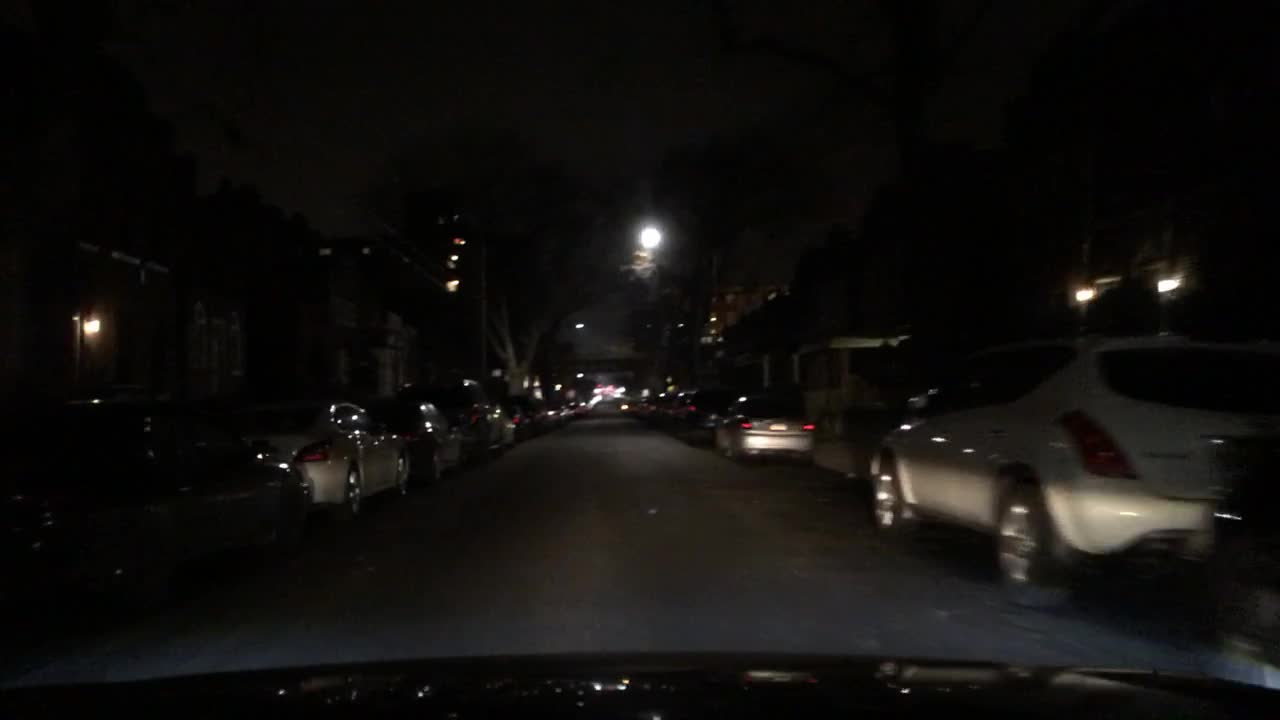car: (864, 337, 1279, 611), (0, 395, 314, 619), (233, 393, 408, 523), (1208, 447, 1279, 688), (369, 391, 467, 484), (712, 393, 816, 464), (449, 395, 514, 459), (668, 381, 735, 442), (499, 395, 543, 437), (644, 383, 678, 423), (528, 395, 563, 430), (633, 386, 658, 422), (550, 398, 573, 420), (568, 398, 590, 415), (617, 395, 634, 415)
